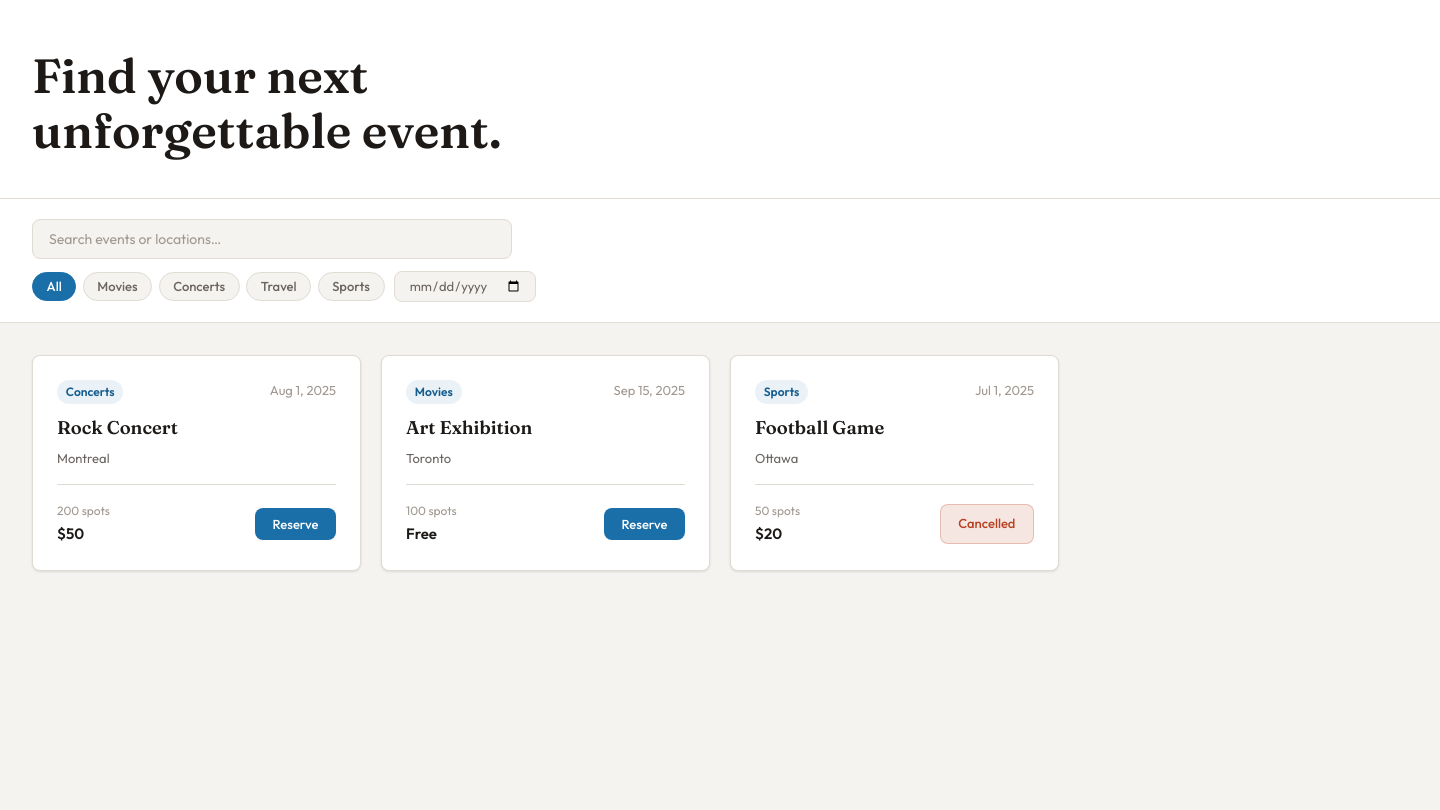
HomePage — filtering by date › hides events before the selected date
Type "2025-09-01" into the date field titled "Filter from date" at (465, 286), box [394,271,536,302]
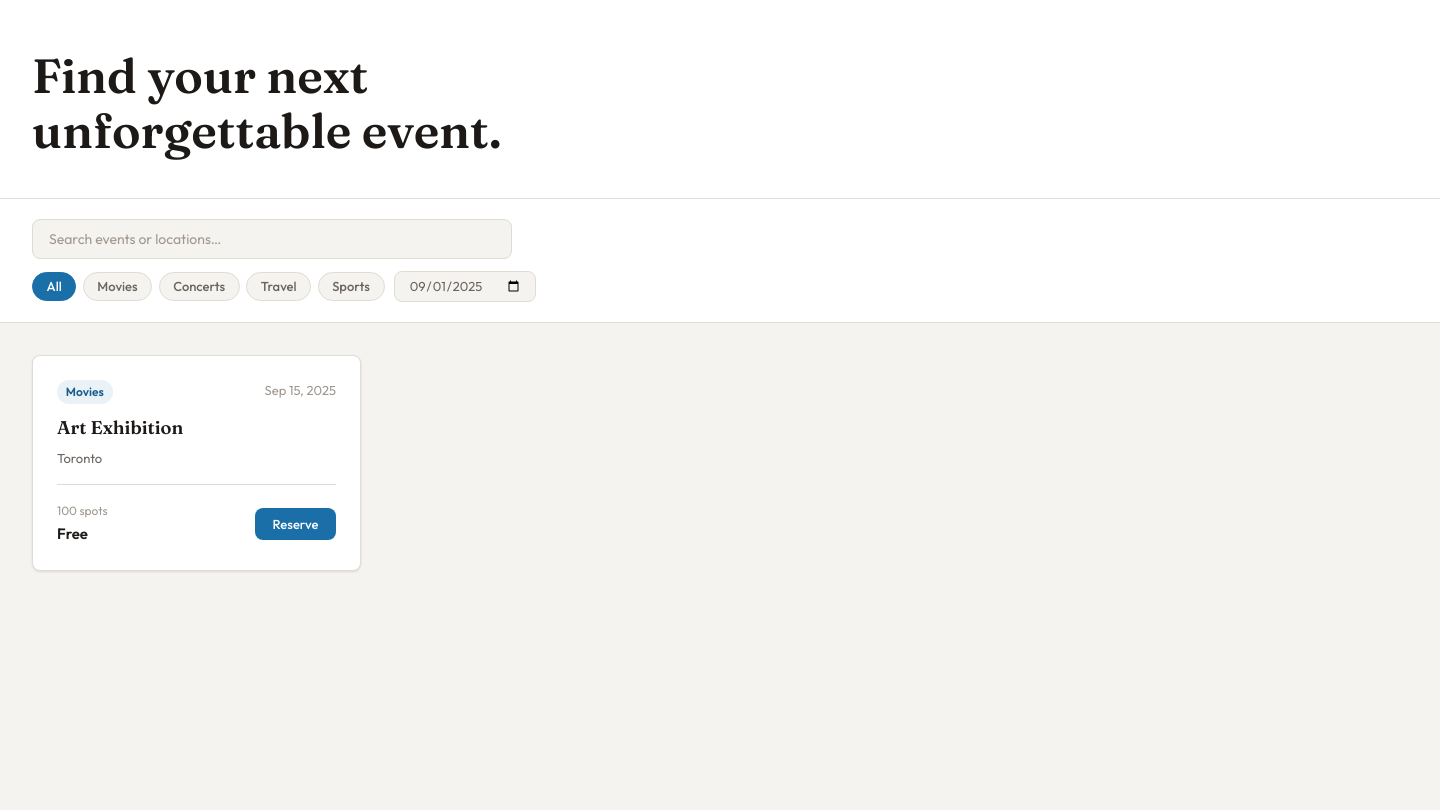
Expected: the heading "Art Exhibition" is shown, [57,416,183,439]
Now the heading "Rock Concert" is gone
